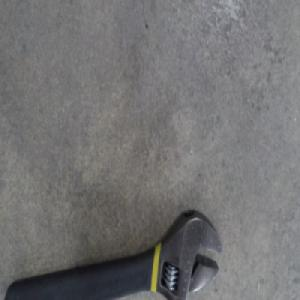AdjustableWrench: (5, 208, 223, 299)
